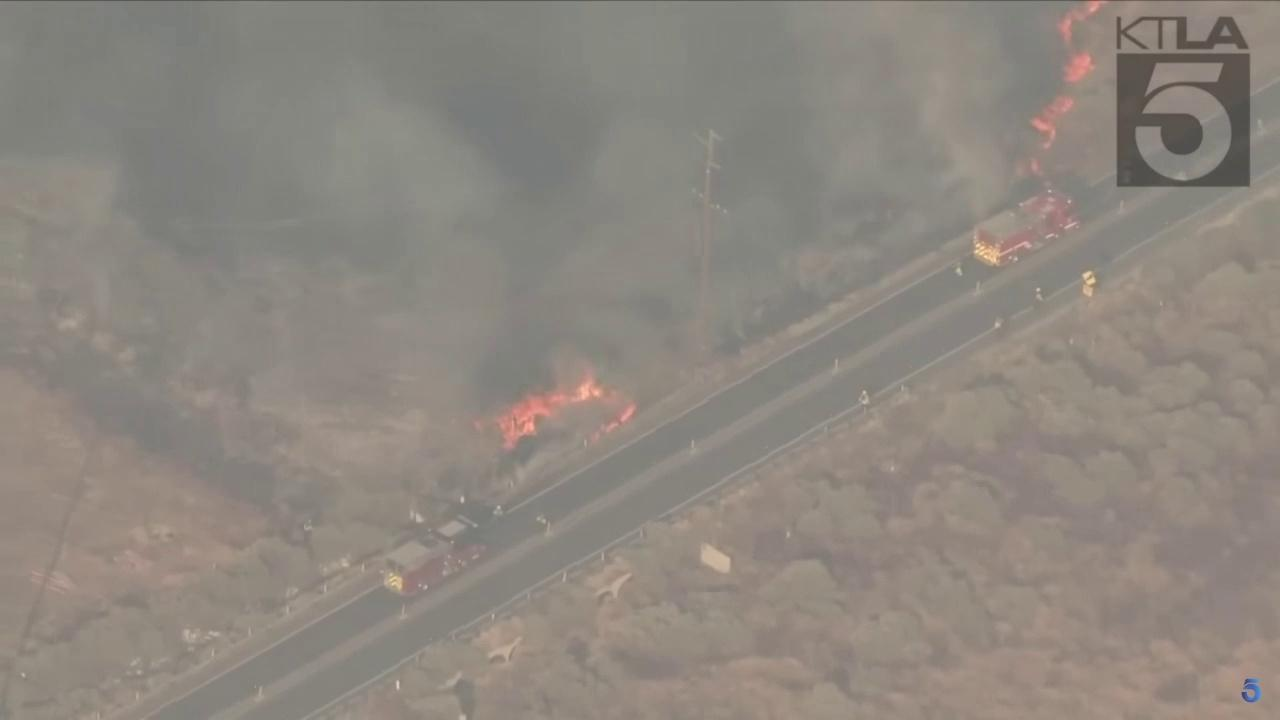fire: (472, 373, 639, 453), (1057, 0, 1111, 84), (1028, 96, 1074, 148), (1032, 159, 1040, 173)
smoke: (0, 0, 1073, 418)
